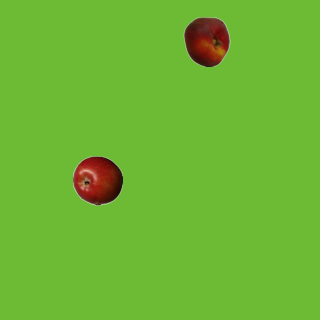Apple Braeburn: (72, 155, 122, 205)
Nectarine Flat: (181, 16, 231, 66)
